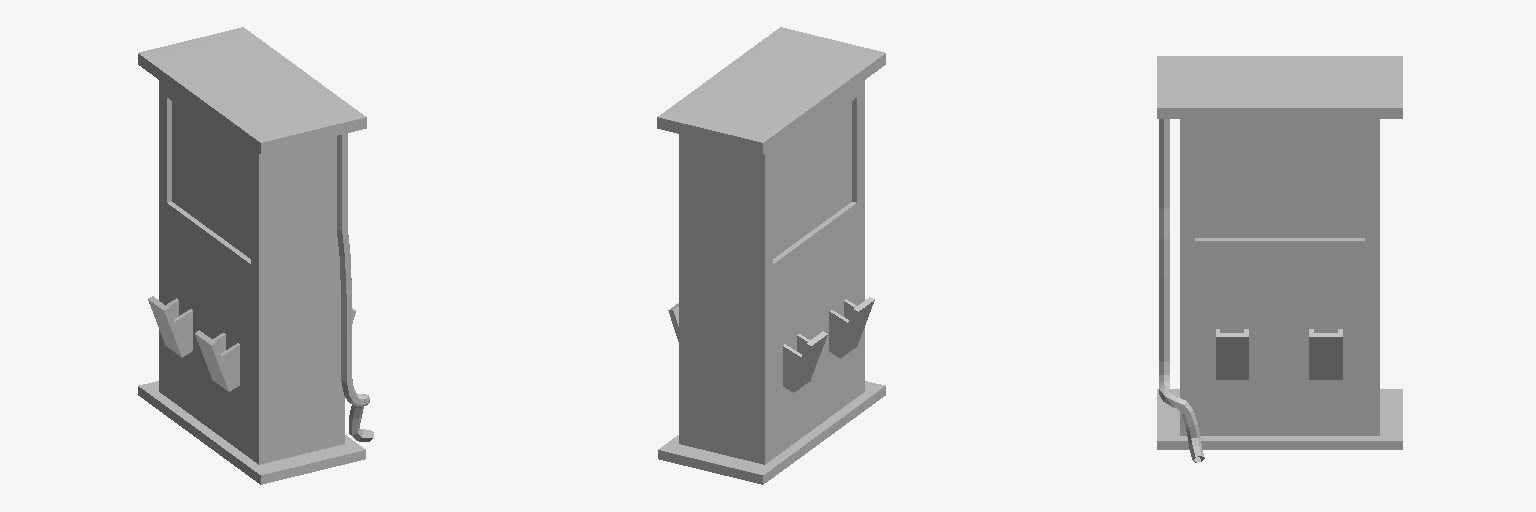
Rendered from petrolPump.obj.
3 renders of one model, left to right at view 1: azimuth 30°, elevation 25°; view 2: azimuth 150°, elevation 25°; view 3: azimuth 270°, elevation 25°, orthographic.
Visible parts, largest first — view 1: polySurface4; view 2: polySurface4; view 3: polySurface4.
Boxes of the visible parts, x1,y1,x2,y2 form: polySurface4: [138, 27, 373, 484]; polySurface4: [657, 27, 885, 484]; polySurface4: [1157, 56, 1402, 462].
Bounding box in the file's own units: 1.44 × 3.12 × 2.02.